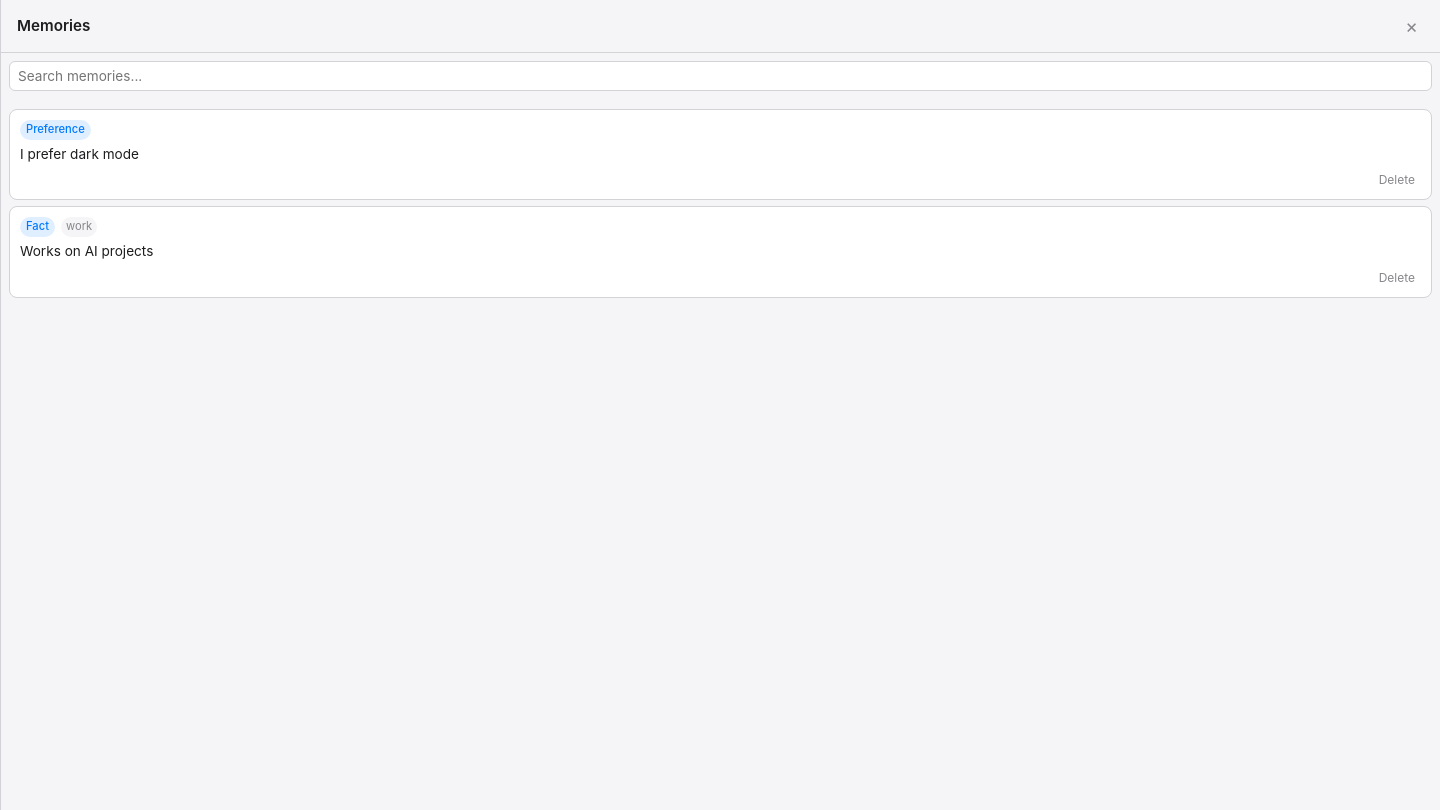
Test case: MemoryPanel › removes memory from list after delete
This screenshot has width=1440, height=810.
Expected: the text "I prefer dark mode" is shown, [20,146,139,162]
Click the button with aria-label "delete memory".
click(1397, 180)  # box [1373,170,1421,189]
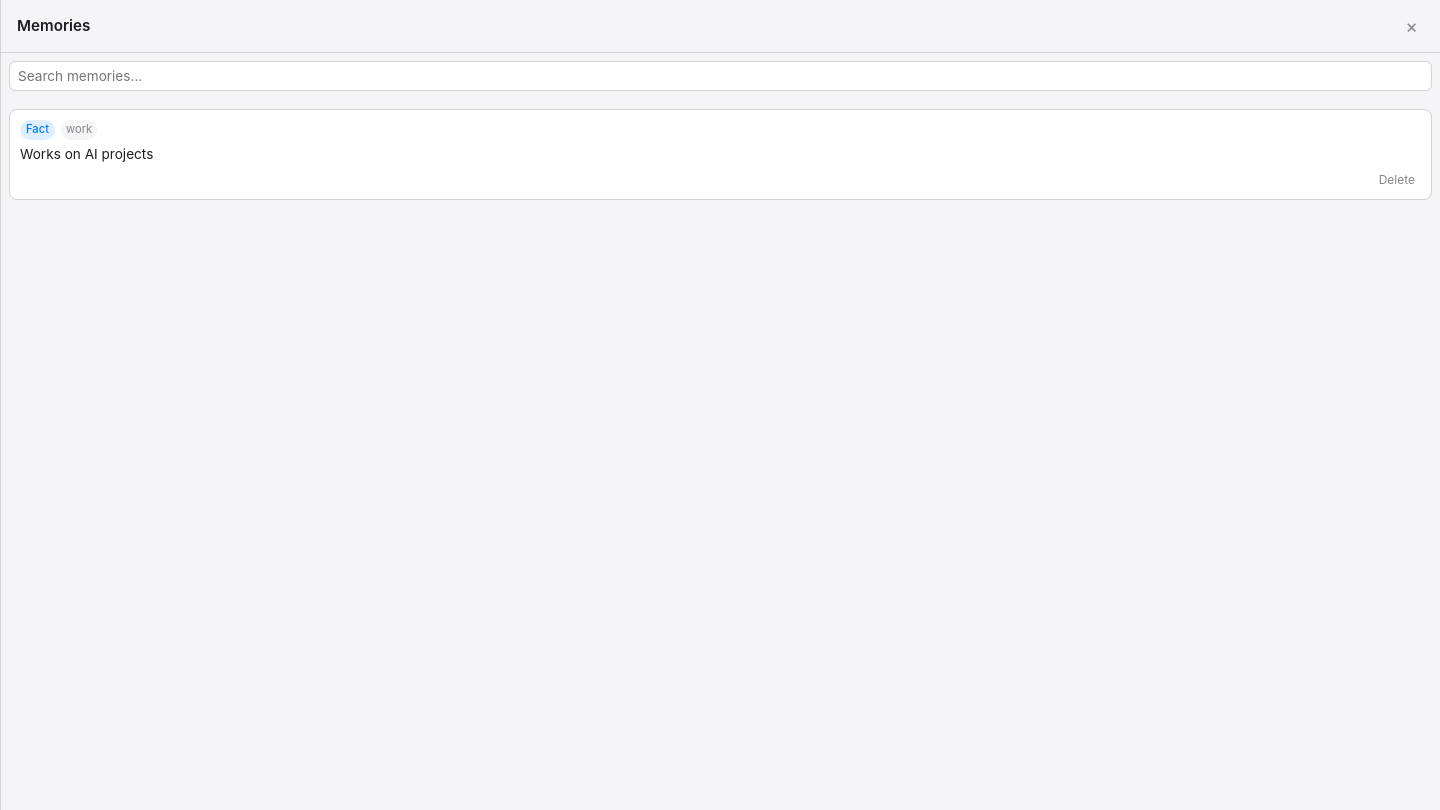
Expected: the text "Works on AI projects" is shown, [20,146,153,162]
Expected: the text "I prefer dark mode" is gone
